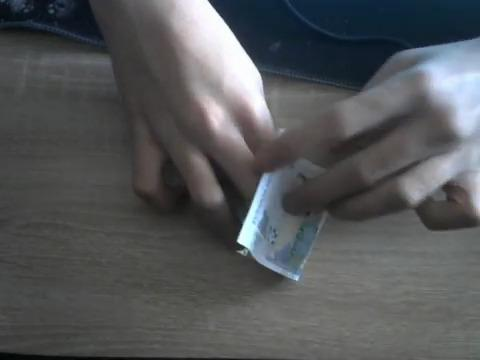20leva: (235, 160, 328, 283)
